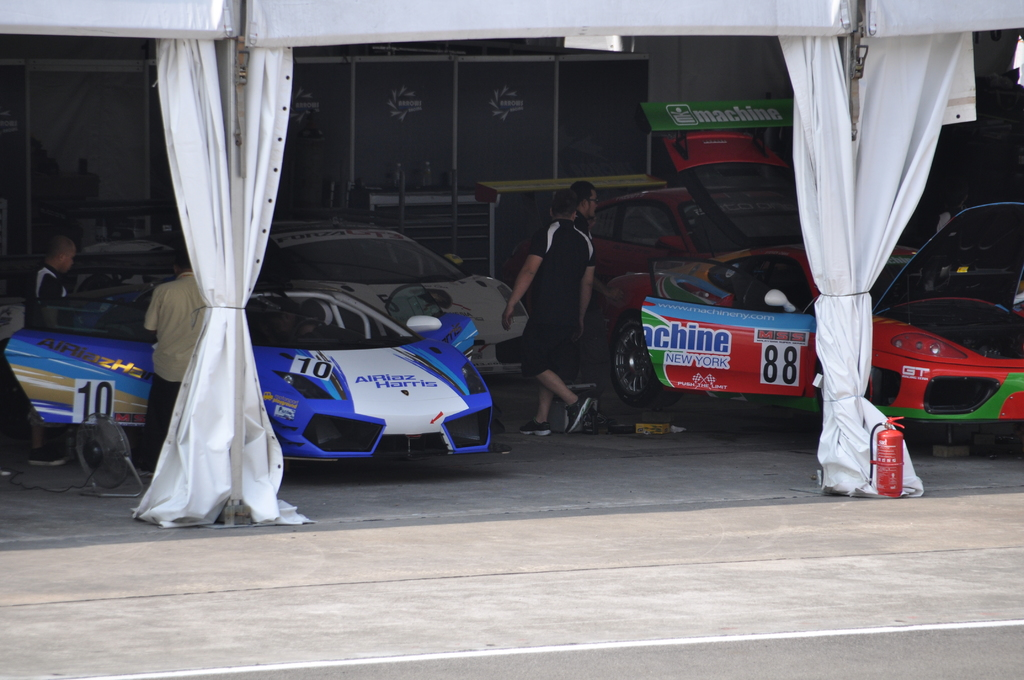Car: (0, 103, 1023, 462)
